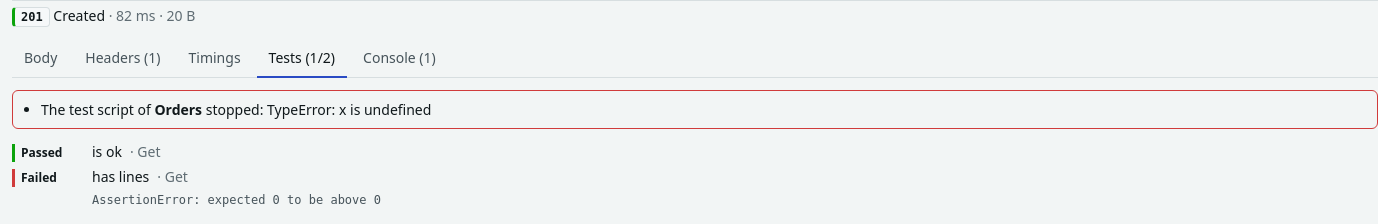
Test case: ResponseView › shows the scripts' tests and console, and their errors
This screenshot has width=1378, height=224.
Check: the tab "Tests (1/2)" is shown, box [257, 39, 347, 78]
Check: the text "AssertionError: expected 0 to be above 0" is shown, box [92, 193, 381, 207]
Click the tab "Console (1)" at (399, 58), box [351, 39, 448, 78]
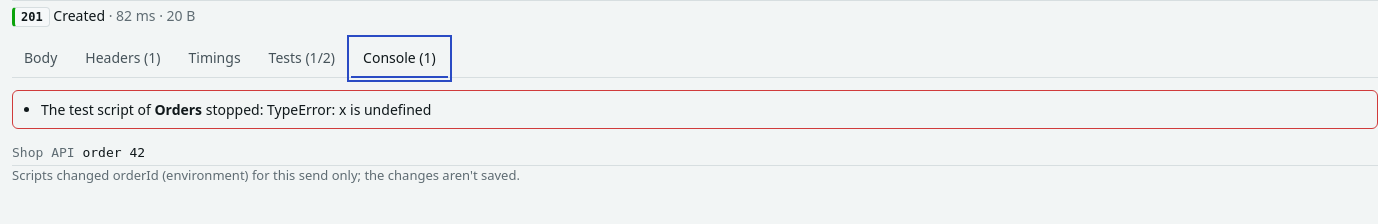
Check: the list item "order 42" is shown, box [82, 145, 145, 160]
Check: the text "changed orderId (environment) for this send only" is shown, box [12, 166, 520, 184]
